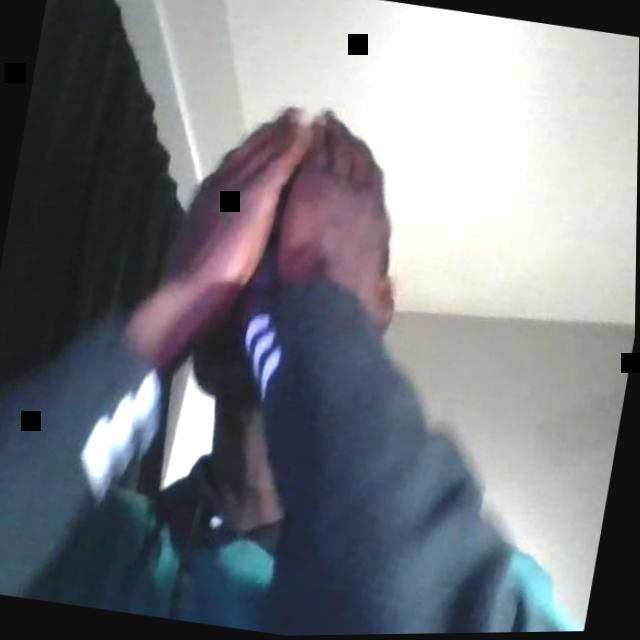NO-Mask: (182, 212, 301, 416)
